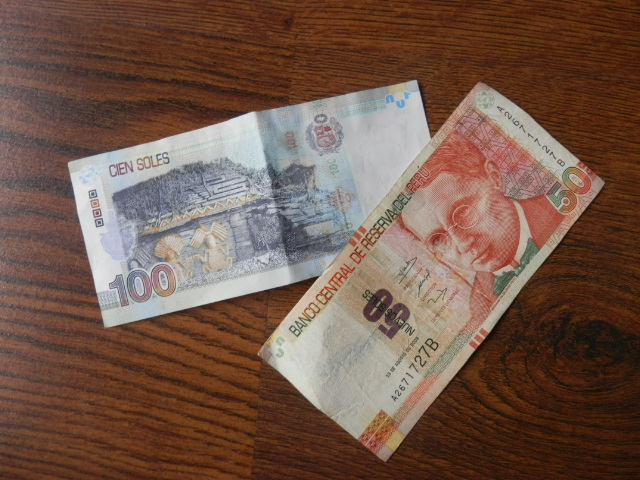B100: (59, 103, 296, 318)
B50: (300, 155, 578, 456)
